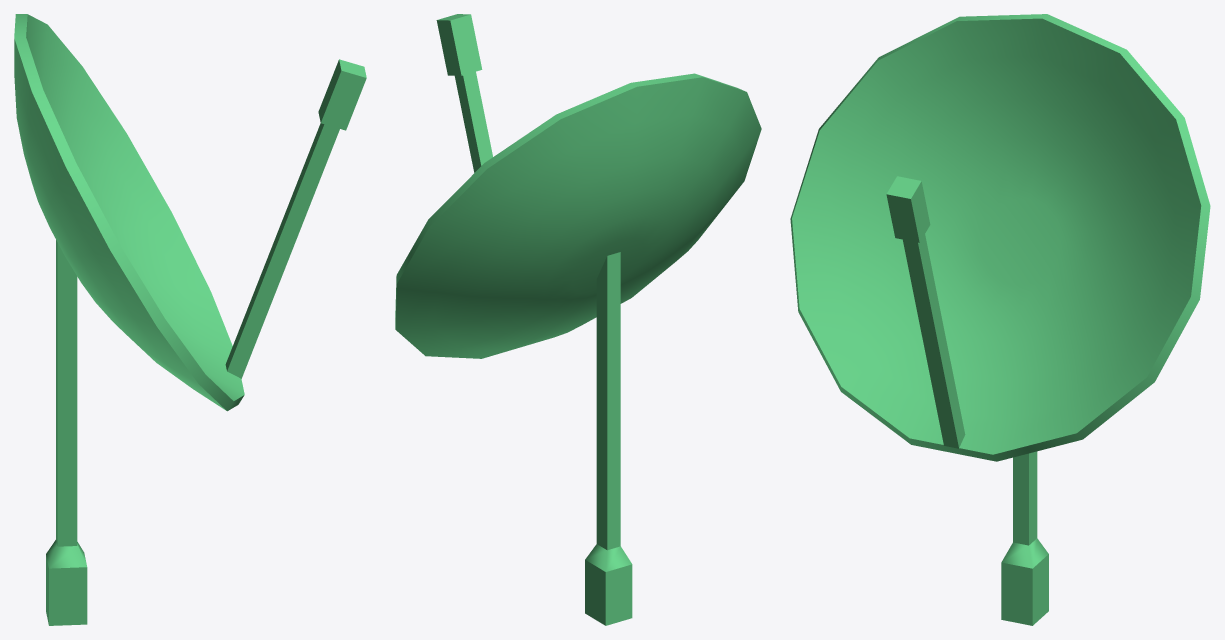
Rendered from SM_antenne.fbx.
The picture shows the model from 3 angles, left to right: view 1: azimuth 30°, elevation 25°; view 2: azimuth 150°, elevation 25°; view 3: azimuth 270°, elevation 25°; orthographic projection. The views are drawn at different scales.
Visible parts, largest first — view 1: SM_antenne; view 2: SM_antenne; view 3: SM_antenne.
Boxes of the visible parts, x1,y1,x2,y2 form: SM_antenne: [14, 14, 366, 625]; SM_antenne: [395, 14, 761, 625]; SM_antenne: [790, 14, 1210, 625].
Size of the model in its own units: 506 by 894 by 585.
